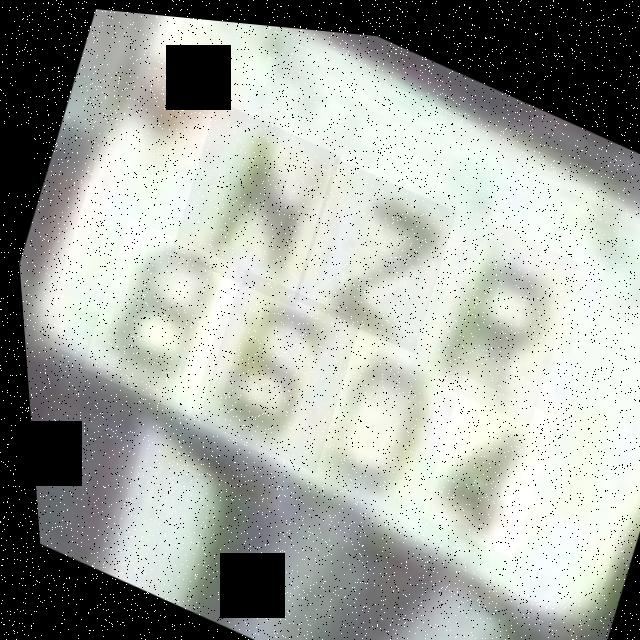0: (275, 293, 480, 521)
4: (405, 363, 558, 553)
6: (177, 257, 365, 472)
8: (69, 211, 250, 422)
N: (159, 92, 348, 307)
P: (392, 194, 586, 421)
Z: (280, 147, 462, 349)
